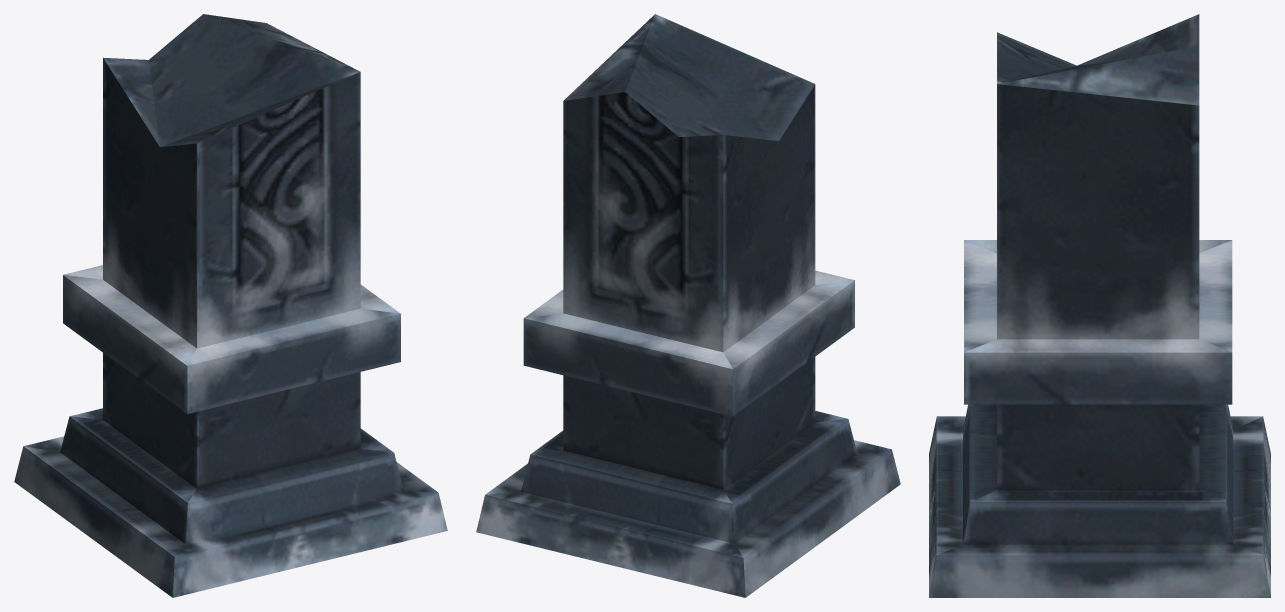
The model's file is Ice_pillarBK.FBX.
The picture shows the model from 3 angles, left to right: view 1: azimuth 30°, elevation 25°; view 2: azimuth 150°, elevation 25°; view 3: azimuth 270°, elevation 25°; orthographic projection. The views are drawn at different scales.
Visible parts, largest first — view 1: Object15686; view 2: Object15686; view 3: Object15686.
Part boxes in pixels (box(x1,y1,x2,y2)): Object15686: box(14, 14, 447, 597); Object15686: box(476, 14, 900, 597); Object15686: box(929, 14, 1270, 597).
Bounding box in the file's own units: 94.33 × 149 × 94.2.
